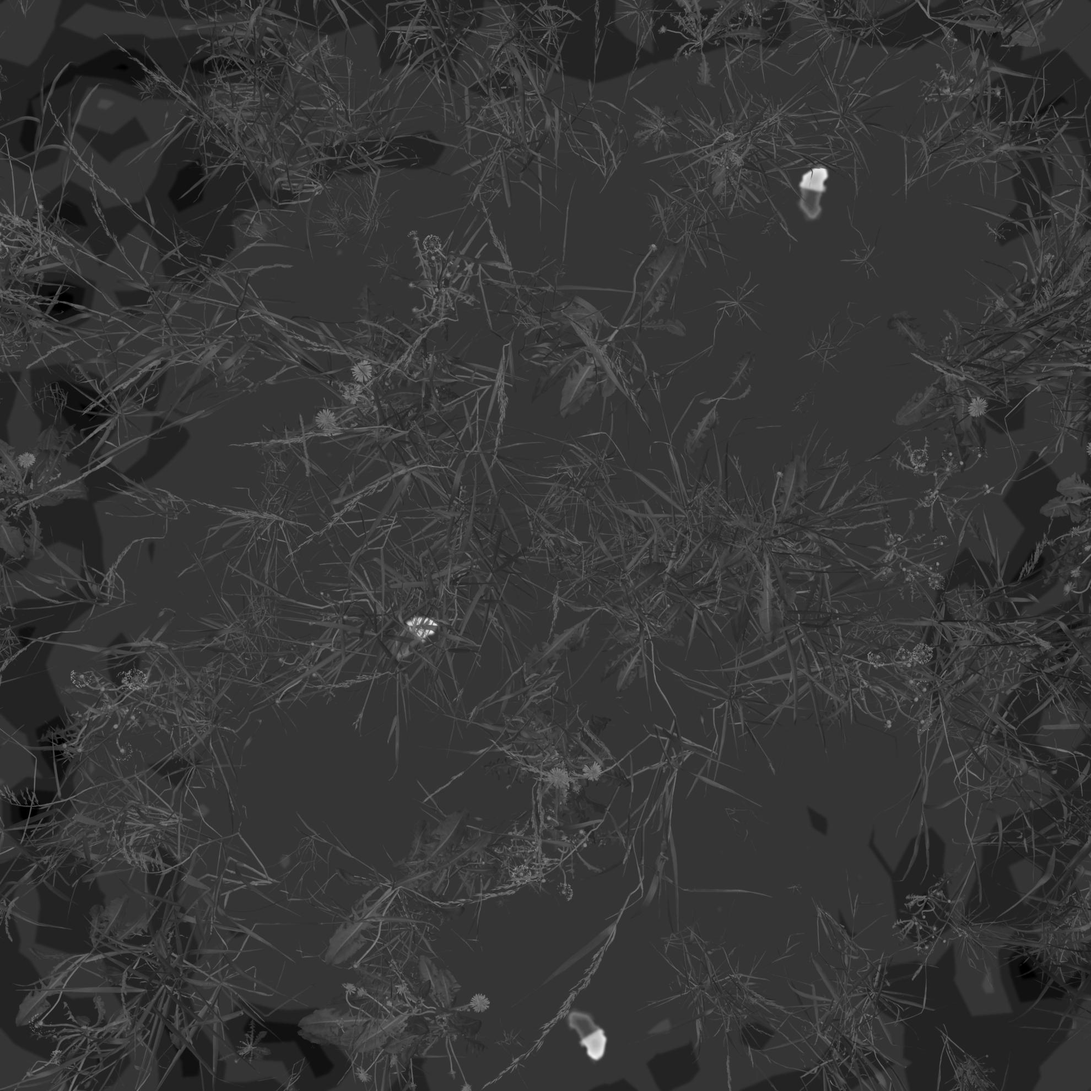landmine: (561, 1008, 609, 1066), (791, 160, 834, 222), (387, 613, 440, 662)
